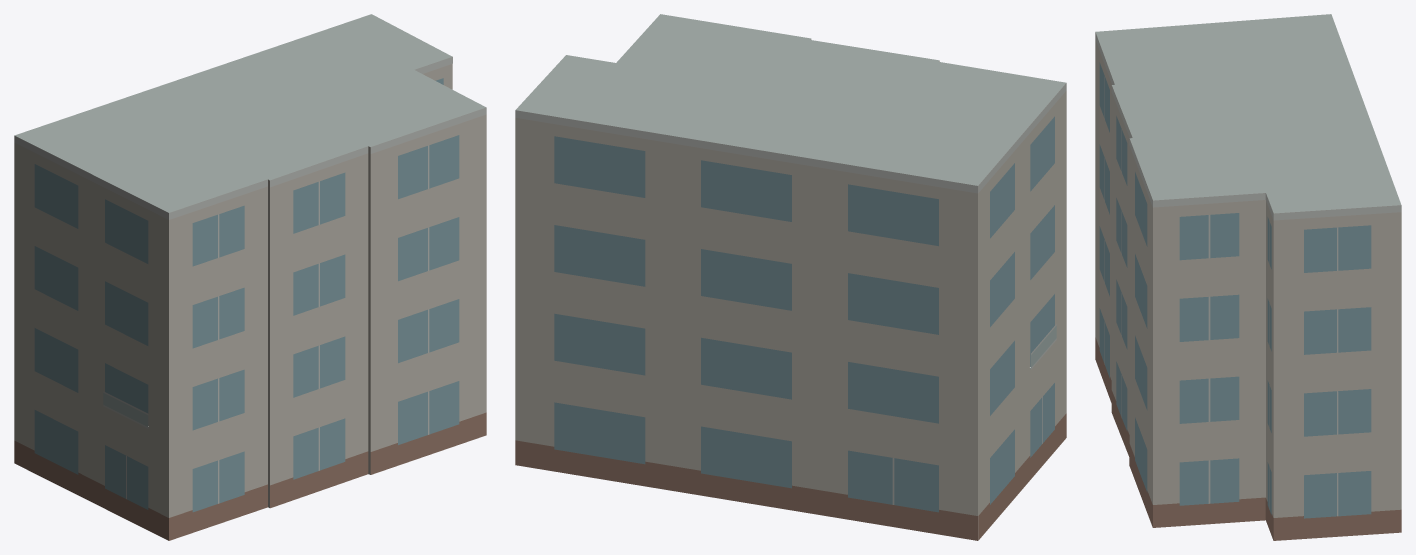
The model's file is survey-upis-32698814.glb.
3 renders of one model, left to right at view 1: azimuth 30°, elevation 25°; view 2: azimuth 150°, elevation 25°; view 3: azimuth 270°, elevation 25°, orthographic. The views are drawn at different scales.
Parts seen in each view (by area): view 1: survey-upis-32698814.tmp; view 2: survey-upis-32698814.tmp; view 3: survey-upis-32698814.tmp.
Part boxes in pixels (x1=…): survey-upis-32698814.tmp: x1=14, y1=14, x2=486, y2=540; survey-upis-32698814.tmp: x1=515, y1=14, x2=1066, y2=540; survey-upis-32698814.tmp: x1=1095, y1=14, x2=1401, y2=540.
Bounding box in the file's own units: 14.91 × 11.4 × 9.67.
